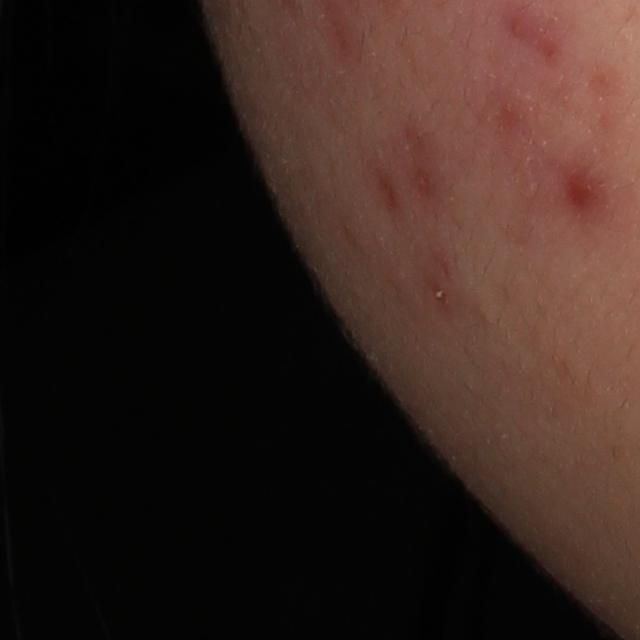papule: (561, 165, 606, 214), (506, 15, 534, 41)
